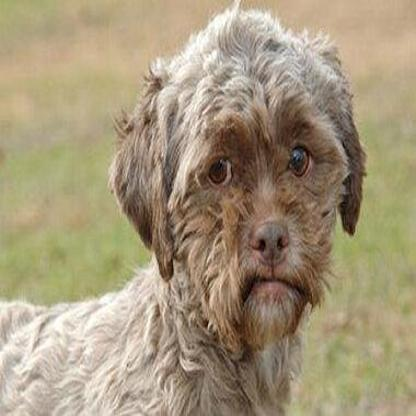dog: (3, 2, 378, 416)
person: (196, 141, 325, 196)
